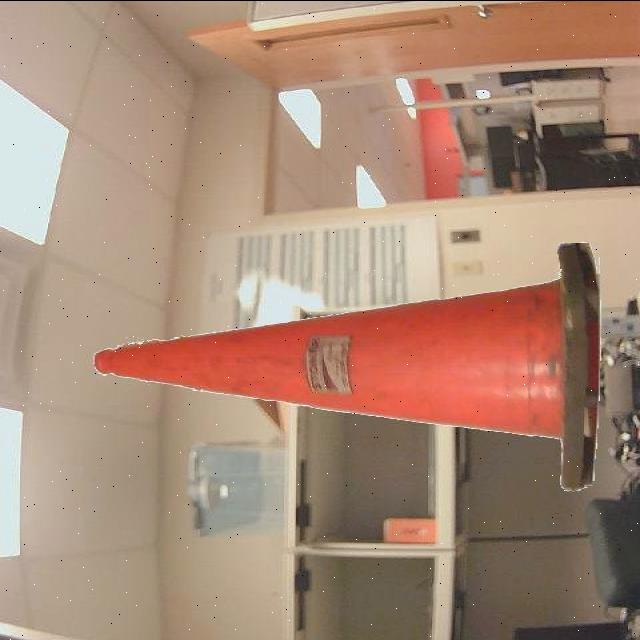traffic cone: (81, 231, 612, 503)
